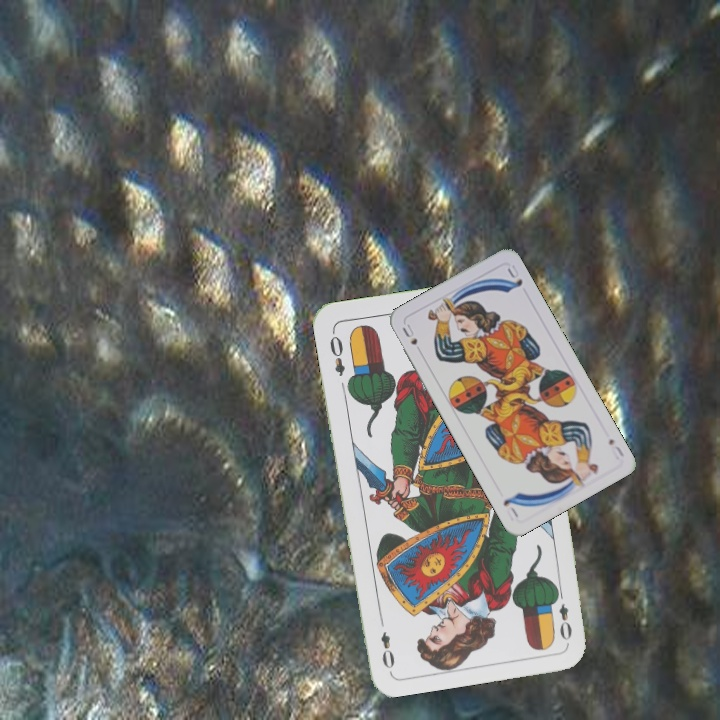EO: (550, 585, 575, 643), (325, 327, 348, 379)
SU: (604, 435, 627, 462), (398, 320, 420, 348)
